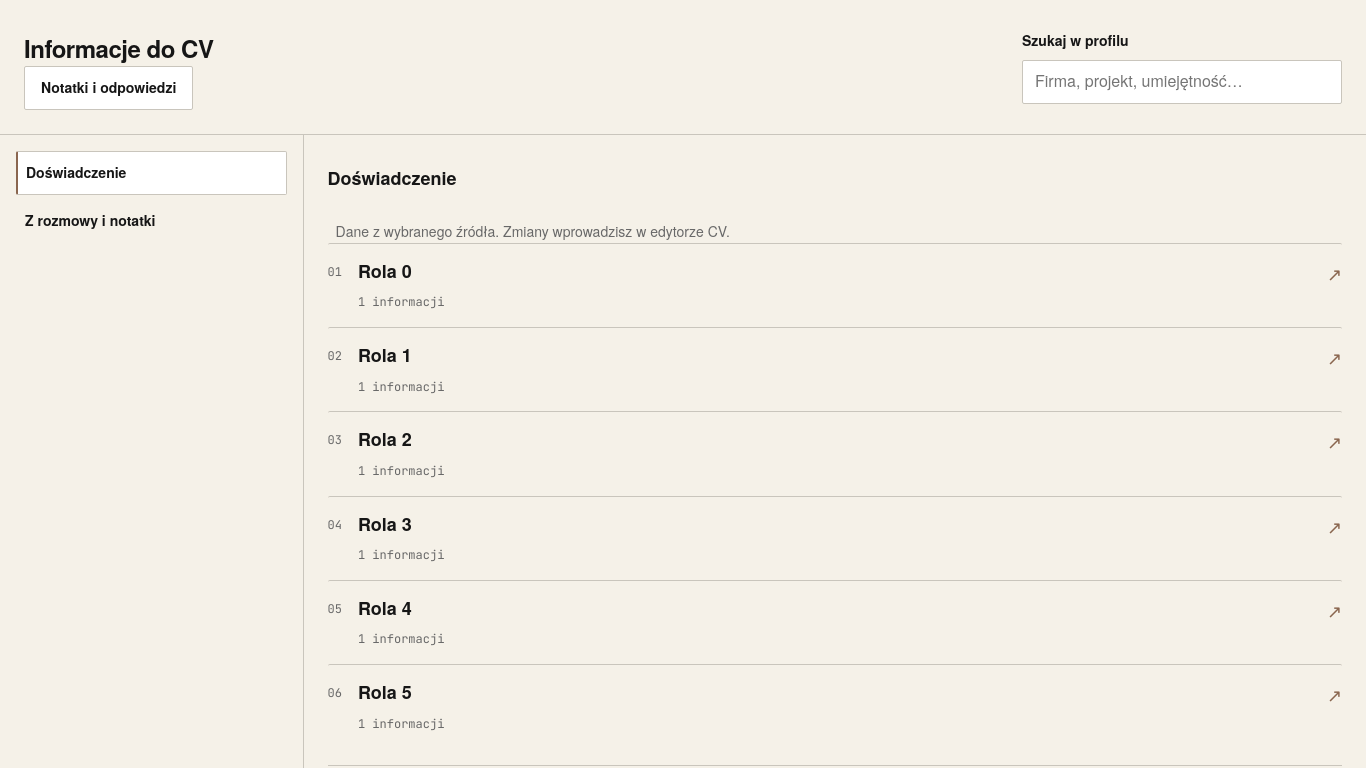
it: bounds a large profile and searches hidden records without losing edits
Expected: the number of buttons named "Otwórz wpis:" is 6, [328, 243, 1342, 327]; [328, 327, 1342, 411]; [328, 411, 1342, 496]; [328, 496, 1342, 580]; [328, 580, 1342, 664]; [328, 664, 1342, 749]
In the search field labelled "Szukaj w profilu": (1182, 82) [1022, 60, 1342, 104], type "Rola 39"
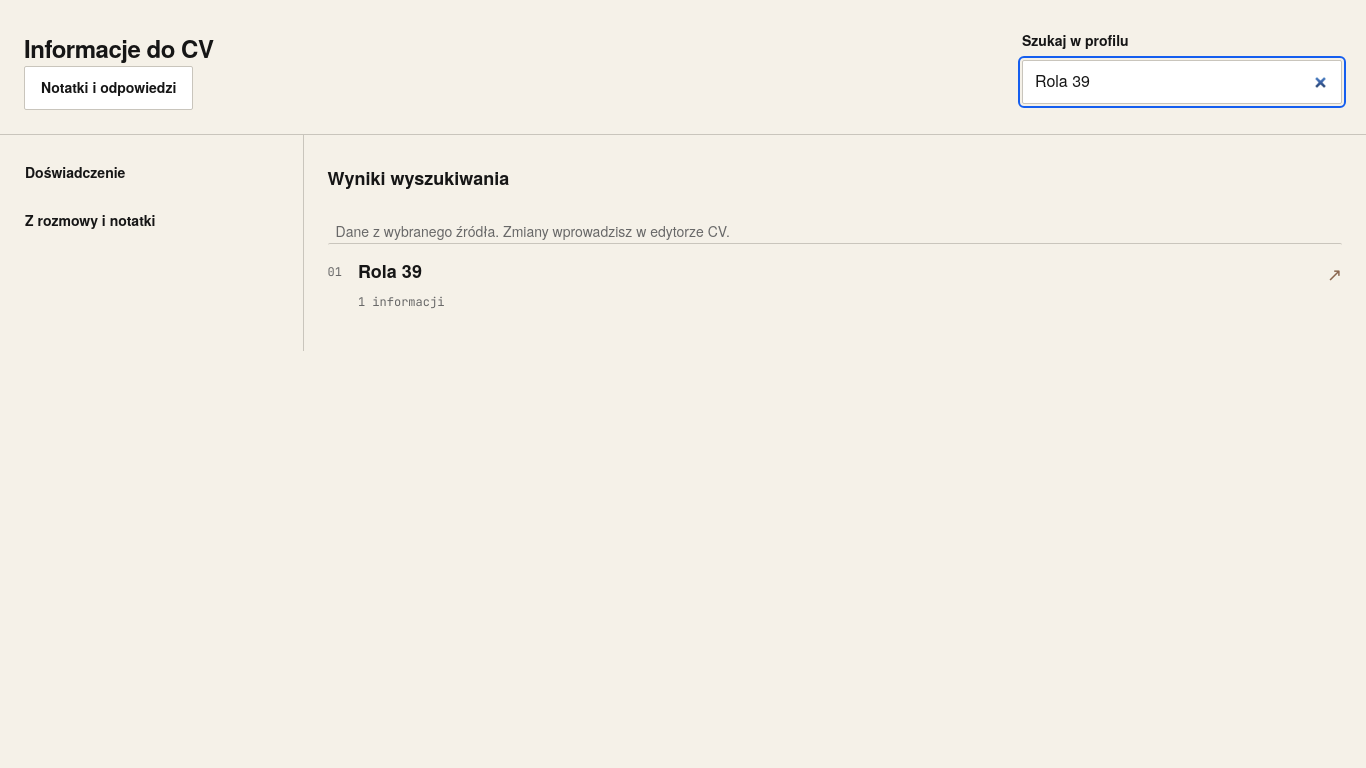
Now the number of buttons named "Otwórz wpis:" is 1
Click the button with aria-label "Otwórz wpis: Rola 39": (390, 271) [328, 243, 1342, 327]
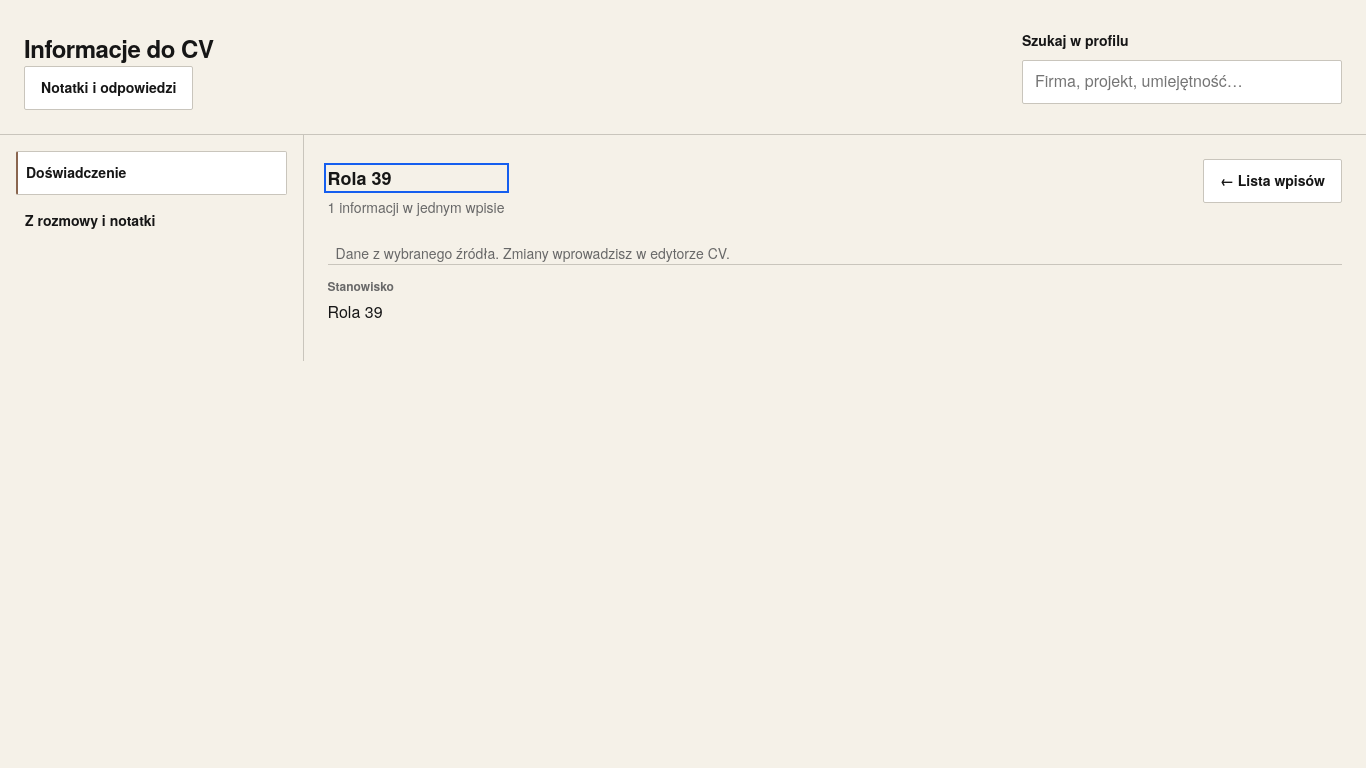
Now the heading "Rola 39" is shown, box [328, 165, 391, 191]
